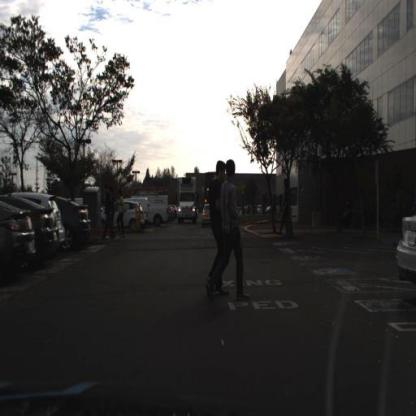car: (21, 192, 61, 273), (1, 201, 39, 283), (1, 194, 35, 281), (60, 193, 91, 254), (36, 193, 67, 250), (65, 200, 96, 246), (106, 201, 145, 233), (49, 198, 67, 254), (202, 202, 221, 227), (200, 203, 215, 226)
pedestrian: (221, 158, 251, 306), (204, 154, 229, 303), (280, 178, 292, 234), (104, 185, 115, 244), (104, 186, 116, 235), (116, 185, 126, 240), (118, 191, 126, 233)
truck: (176, 174, 199, 225), (176, 175, 198, 222), (143, 194, 172, 227), (203, 170, 219, 207), (142, 196, 152, 230)
